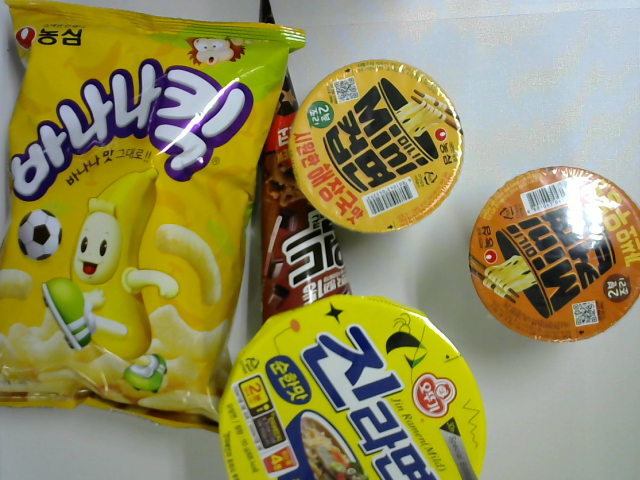Banana_Kick: (1, 1, 312, 444)
Hejangmini: (284, 54, 474, 239)
Jinlamyeon_Mild_Taste_Large_Cup: (215, 292, 491, 480)
Udongmini: (467, 152, 640, 348)
World_Cone_Choco: (235, 1, 371, 387)
